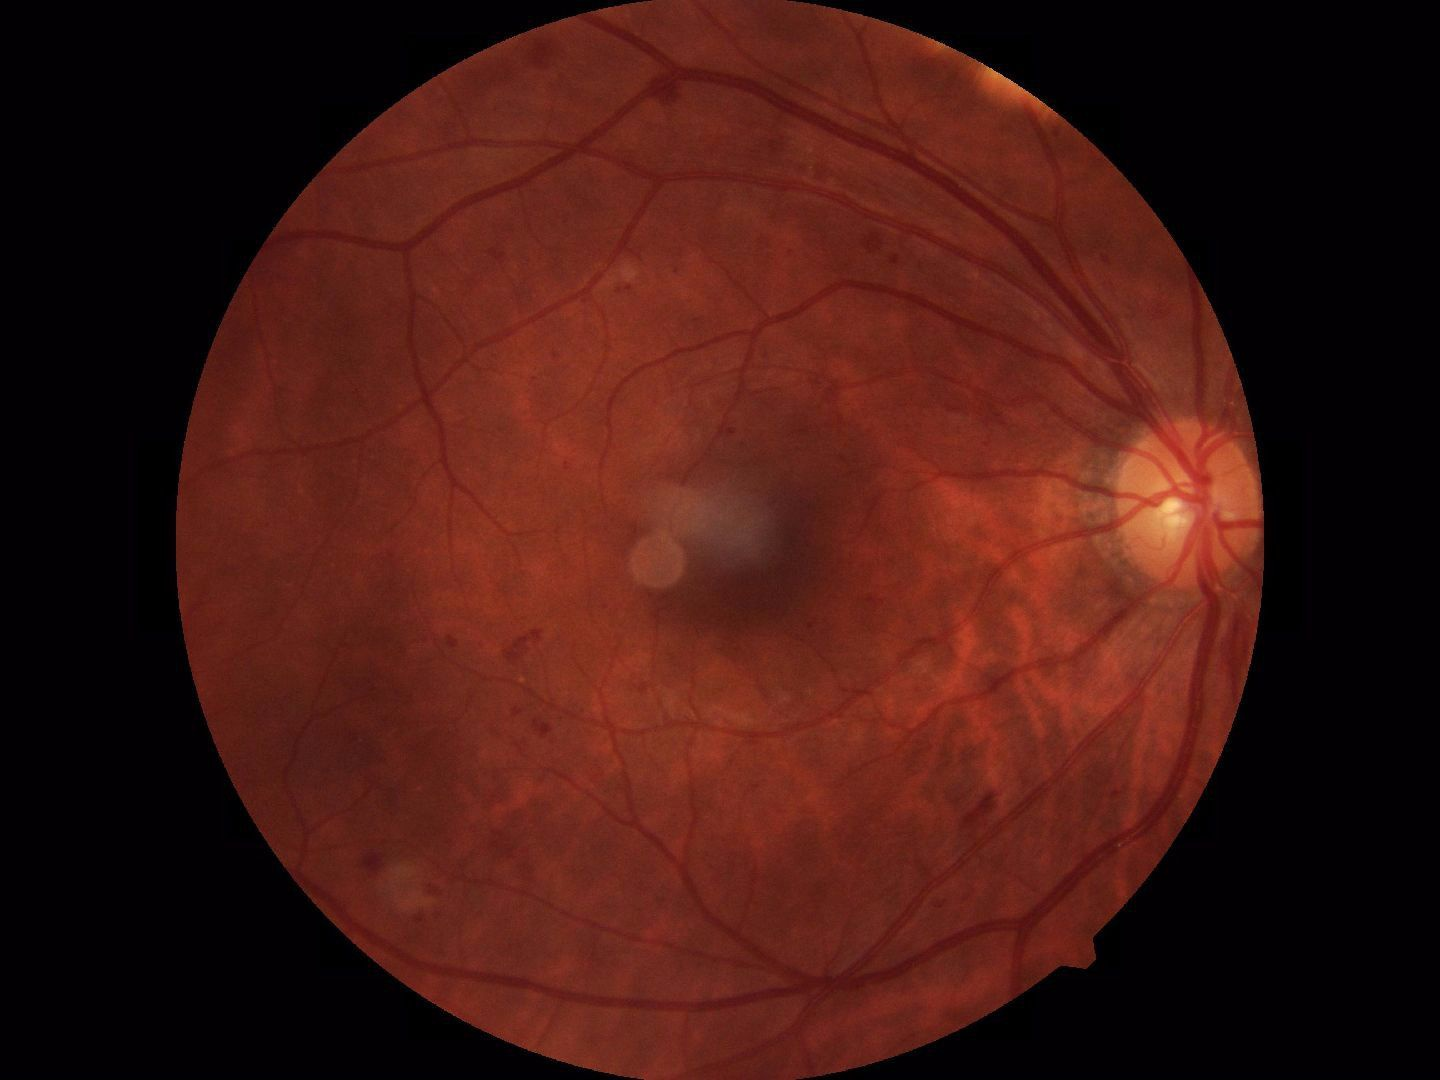Hemorrhages: (662, 440, 827, 626)
Microaneurysms: (490, 633, 575, 733)
Optic-Disc: (1118, 403, 1257, 581)
Venules: (676, 61, 1022, 236), (637, 876, 1054, 986)
